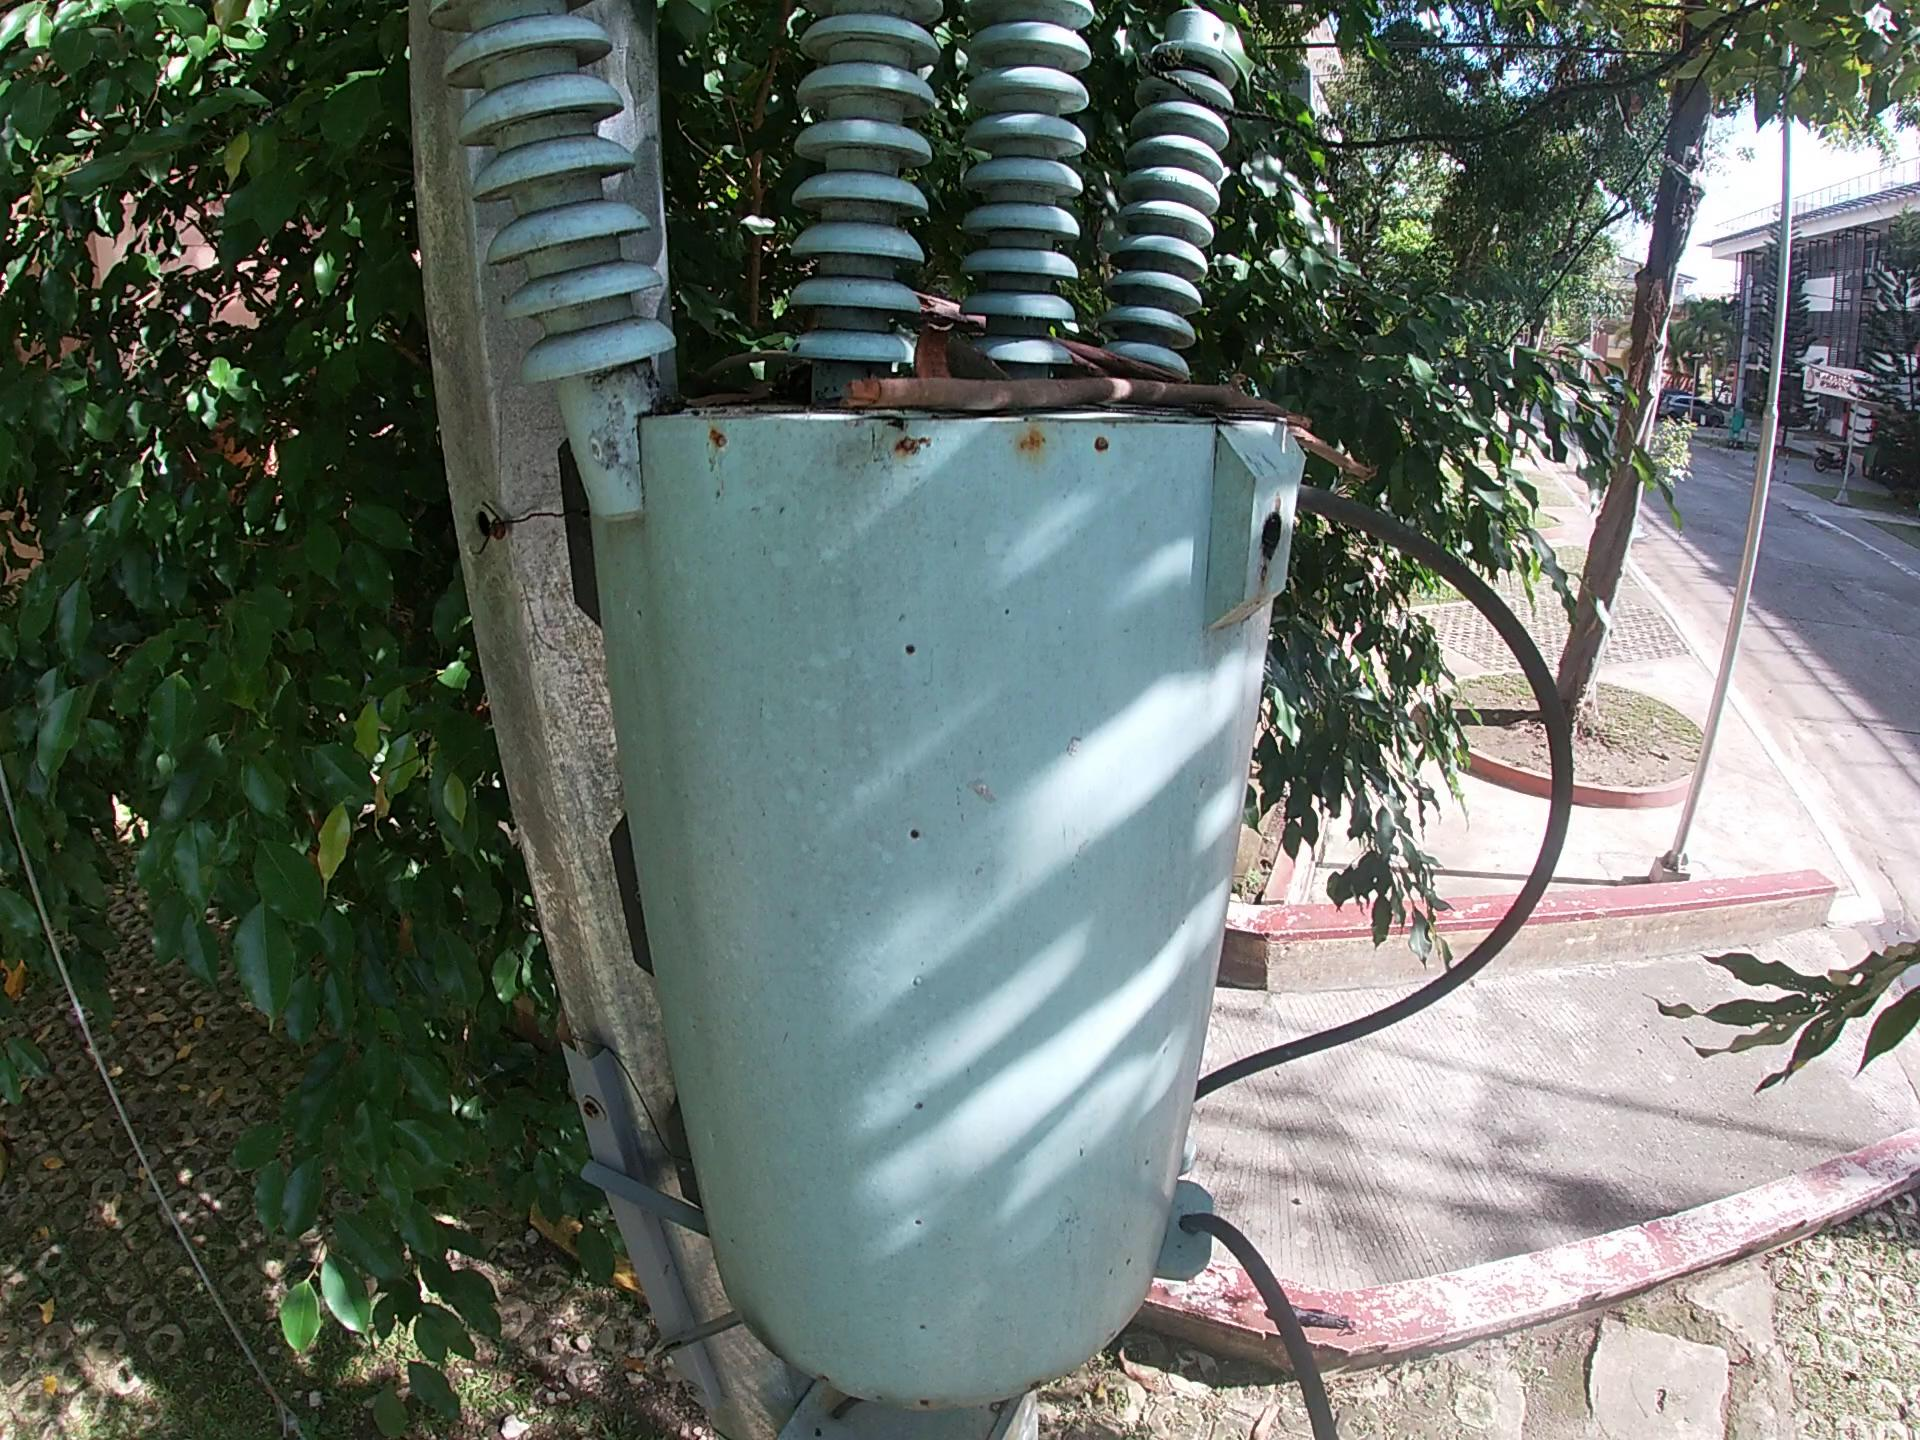leaf: (685, 393, 766, 411)
mahogany fruit: (906, 331, 965, 383), (958, 342, 1027, 384)
tree branch: (844, 358, 1407, 498), (1066, 330, 1191, 390), (900, 287, 980, 334), (698, 346, 809, 380), (766, 362, 812, 383)
